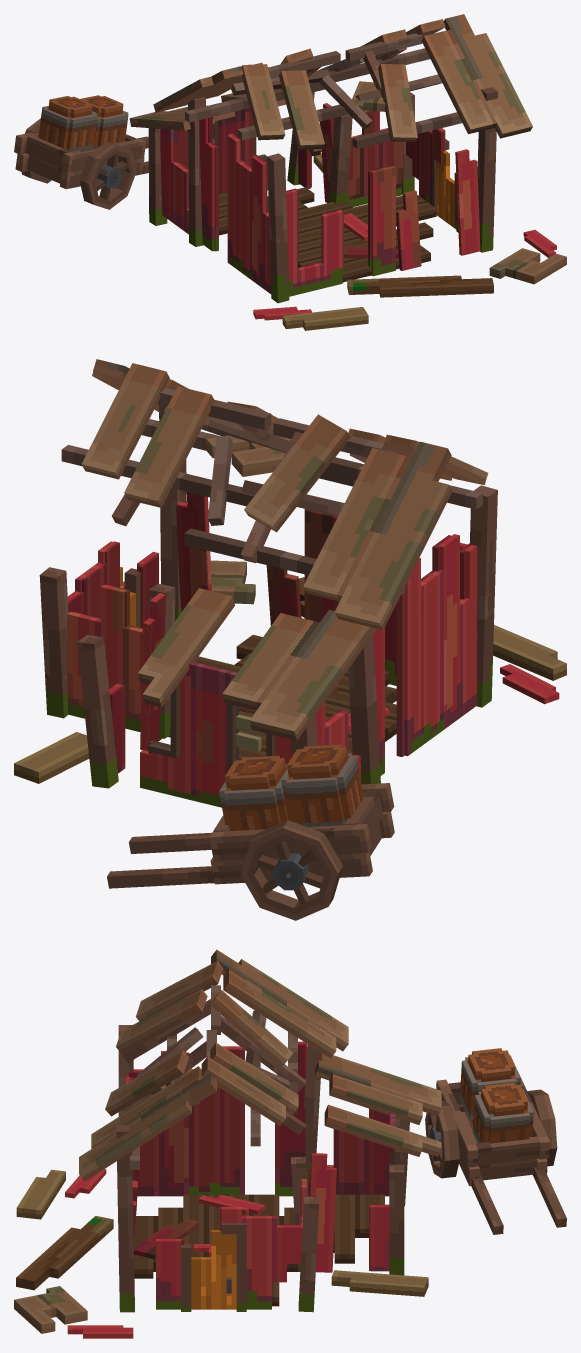
The model's file is building_6x4_lostsettlementsvillage02.gltf.
The picture shows the model from 3 angles, top to bottom: view 1: azimuth 30°, elevation 25°; view 2: azimuth 150°, elevation 25°; view 3: azimuth 270°, elevation 25°; orthographic projection. The views are drawn at different scales.
Parts seen in each view (by area): view 1: House-Local, d03-Local, dark01-Local, d022$$(1)-Local, d1ddd1-Local, dark08-Local, w77-Local, trshu04-Local, bb1-Local, House02-Local, w6-Local, d1d-Local (+33 smaller); view 2: House-Local, Roof04-Local, d03$$(2)-Local, House02-Local, d022-Local, dark01-Local, bb1-Local, d1d$$(1)-Local, bb12-Local, w-Local, w77-Local, w7-Local (+33 smaller); view 3: dark01-Local, House-Local, Roof04-Local, d1ddd1-Local, d03$$(2)-Local, d03-Local, d022$$(1)-Local, dark08-Local, d022-Local, bb12-Local, trshu04-Local, w6-Local (+26 smaller).
Boxes of the visible parts, x1,y1,x2,y2 form: House-Local: [199, 110, 456, 296]; d03-Local: [421, 14, 532, 138]; dark01-Local: [208, 110, 458, 275]; d022$$(1)-Local: [241, 64, 324, 149]; d1ddd1-Local: [219, 187, 436, 282]; dark08-Local: [173, 108, 310, 195]; w77-Local: [267, 153, 289, 303]; trshu04-Local: [347, 275, 493, 297]; bb1-Local: [38, 96, 97, 151]; House02-Local: [160, 124, 311, 234]; w6-Local: [477, 87, 497, 252]; d1d-Local: [378, 64, 417, 141]; House-Local: [67, 509, 477, 775]; Roof04-Local: [138, 588, 376, 740]; d03$$(2)-Local: [303, 441, 452, 629]; House02-Local: [109, 662, 361, 807]; d022-Local: [81, 363, 214, 507]; dark01-Local: [68, 509, 470, 756]; bb1-Local: [281, 744, 363, 826]; d1d$$(1)-Local: [244, 414, 350, 532]; bb12-Local: [219, 755, 288, 830]; w-Local: [77, 635, 118, 788]; w77-Local: [469, 485, 497, 707]; w7-Local: [39, 567, 68, 718]; dark01-Local: [129, 1044, 305, 1267]; House-Local: [125, 1041, 306, 1311]; Roof04-Local: [315, 1053, 441, 1156]; d1ddd1-Local: [134, 1194, 384, 1306]; d03$$(2)-Local: [211, 949, 348, 1058]; d03-Local: [79, 1066, 216, 1181]; d022$$(1)-Local: [116, 961, 223, 1053]; dark08-Local: [308, 1108, 394, 1270]; d022-Local: [201, 1042, 298, 1125]; bb12-Local: [472, 1082, 533, 1143]; trshu04-Local: [16, 1216, 113, 1290]; w6-Local: [116, 1125, 134, 1312].
Size of the model in its own units: 93.1 by 54.15 by 110.
106 materials, 106 textured.
